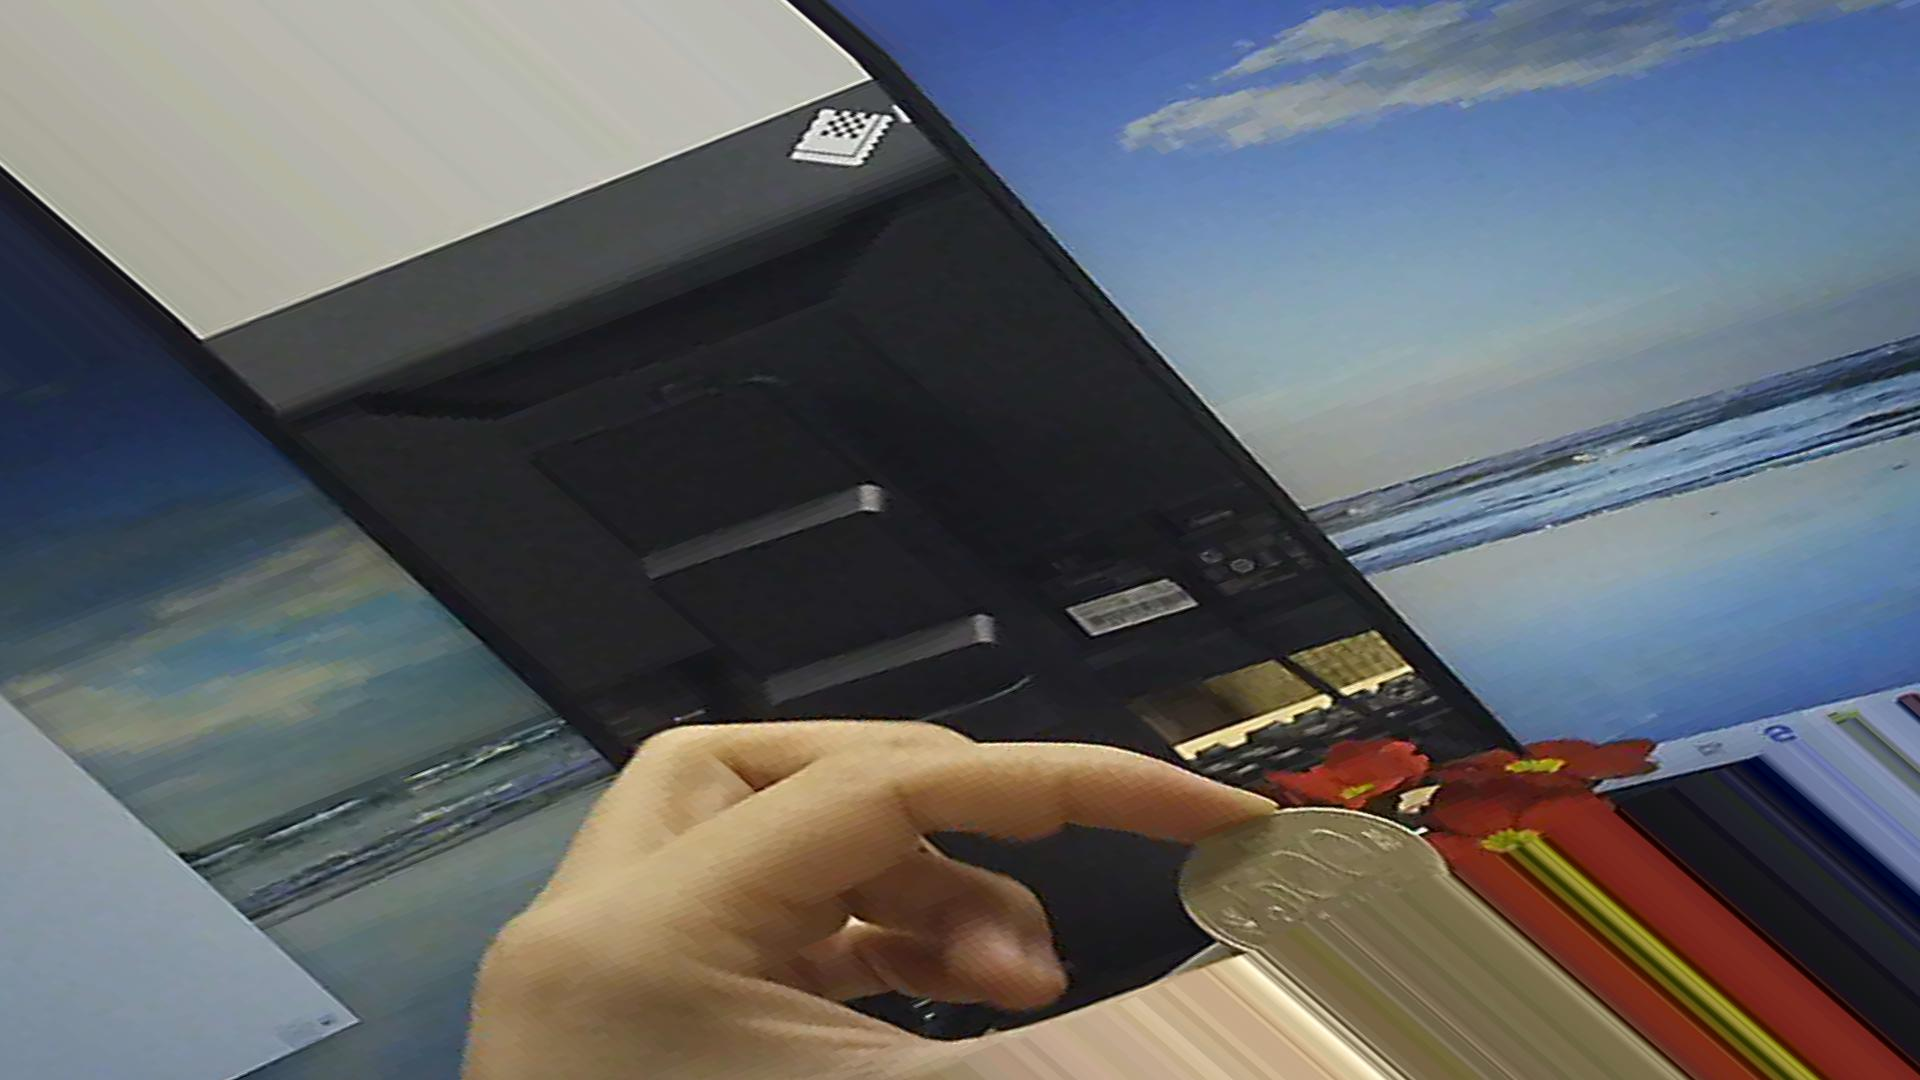500 Yen: (1178, 783, 1449, 945)
